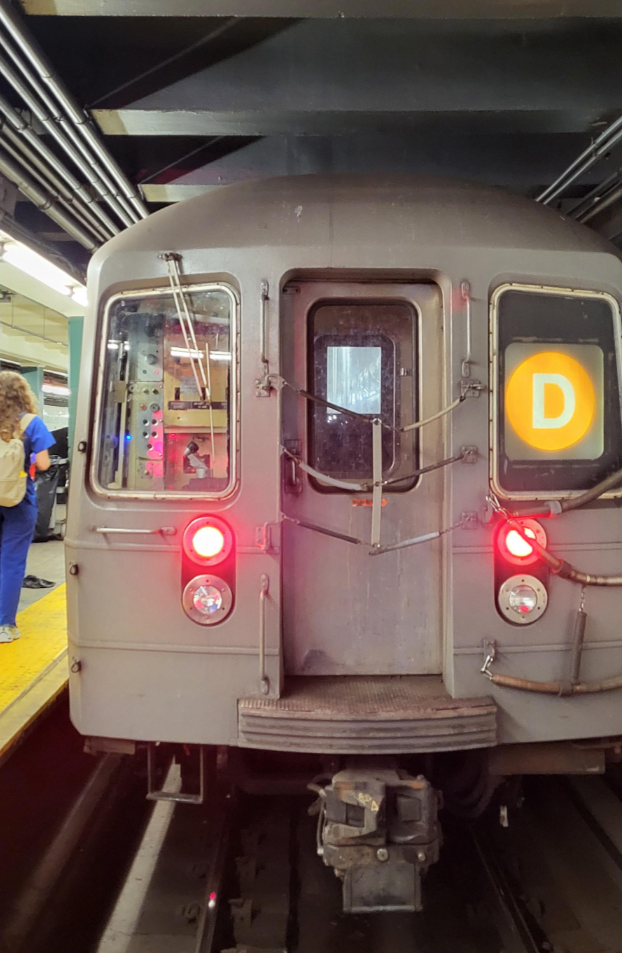train: (67, 167, 621, 752)
